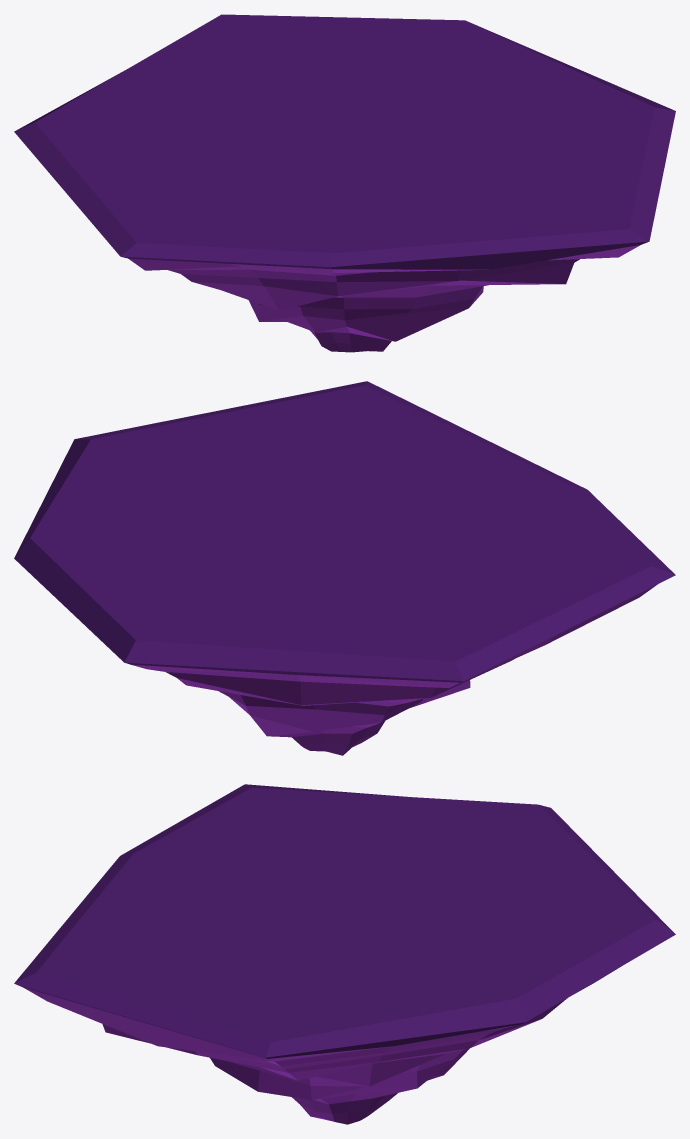
Rendered from FloatingIsland2.fbx.
3 renders of one model, top to bottom at view 1: azimuth 30°, elevation 25°; view 2: azimuth 150°, elevation 25°; view 3: azimuth 270°, elevation 25°, orthographic. The views are drawn at different scales.
Parts seen in each view (by area): view 1: Cube.012; view 2: Cube.012; view 3: Cube.012.
Part boxes in pixels (<box>): Cube.012: <box>14,14,675,352</box>; Cube.012: <box>14,381,675,755</box>; Cube.012: <box>14,784,675,1124</box>.
Bounding box in the file's own units: 949 × 340 × 972.
